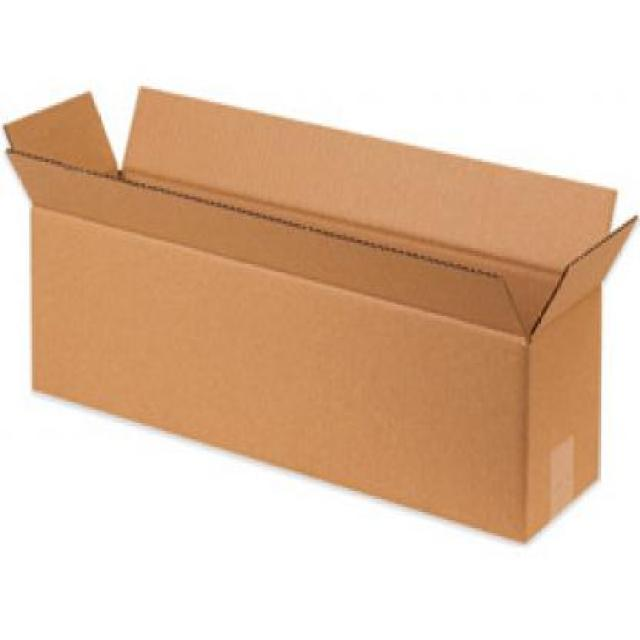box: (0, 61, 638, 552)
